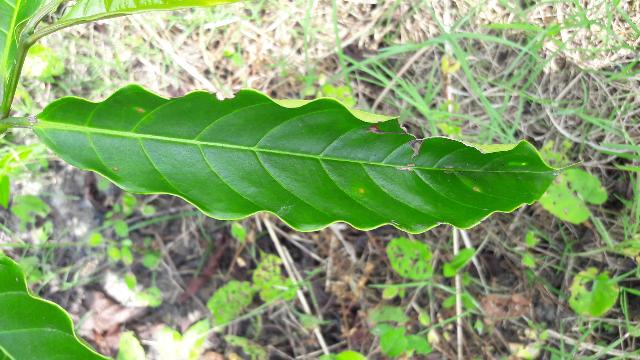rust_level_1: (34, 85, 581, 235)
